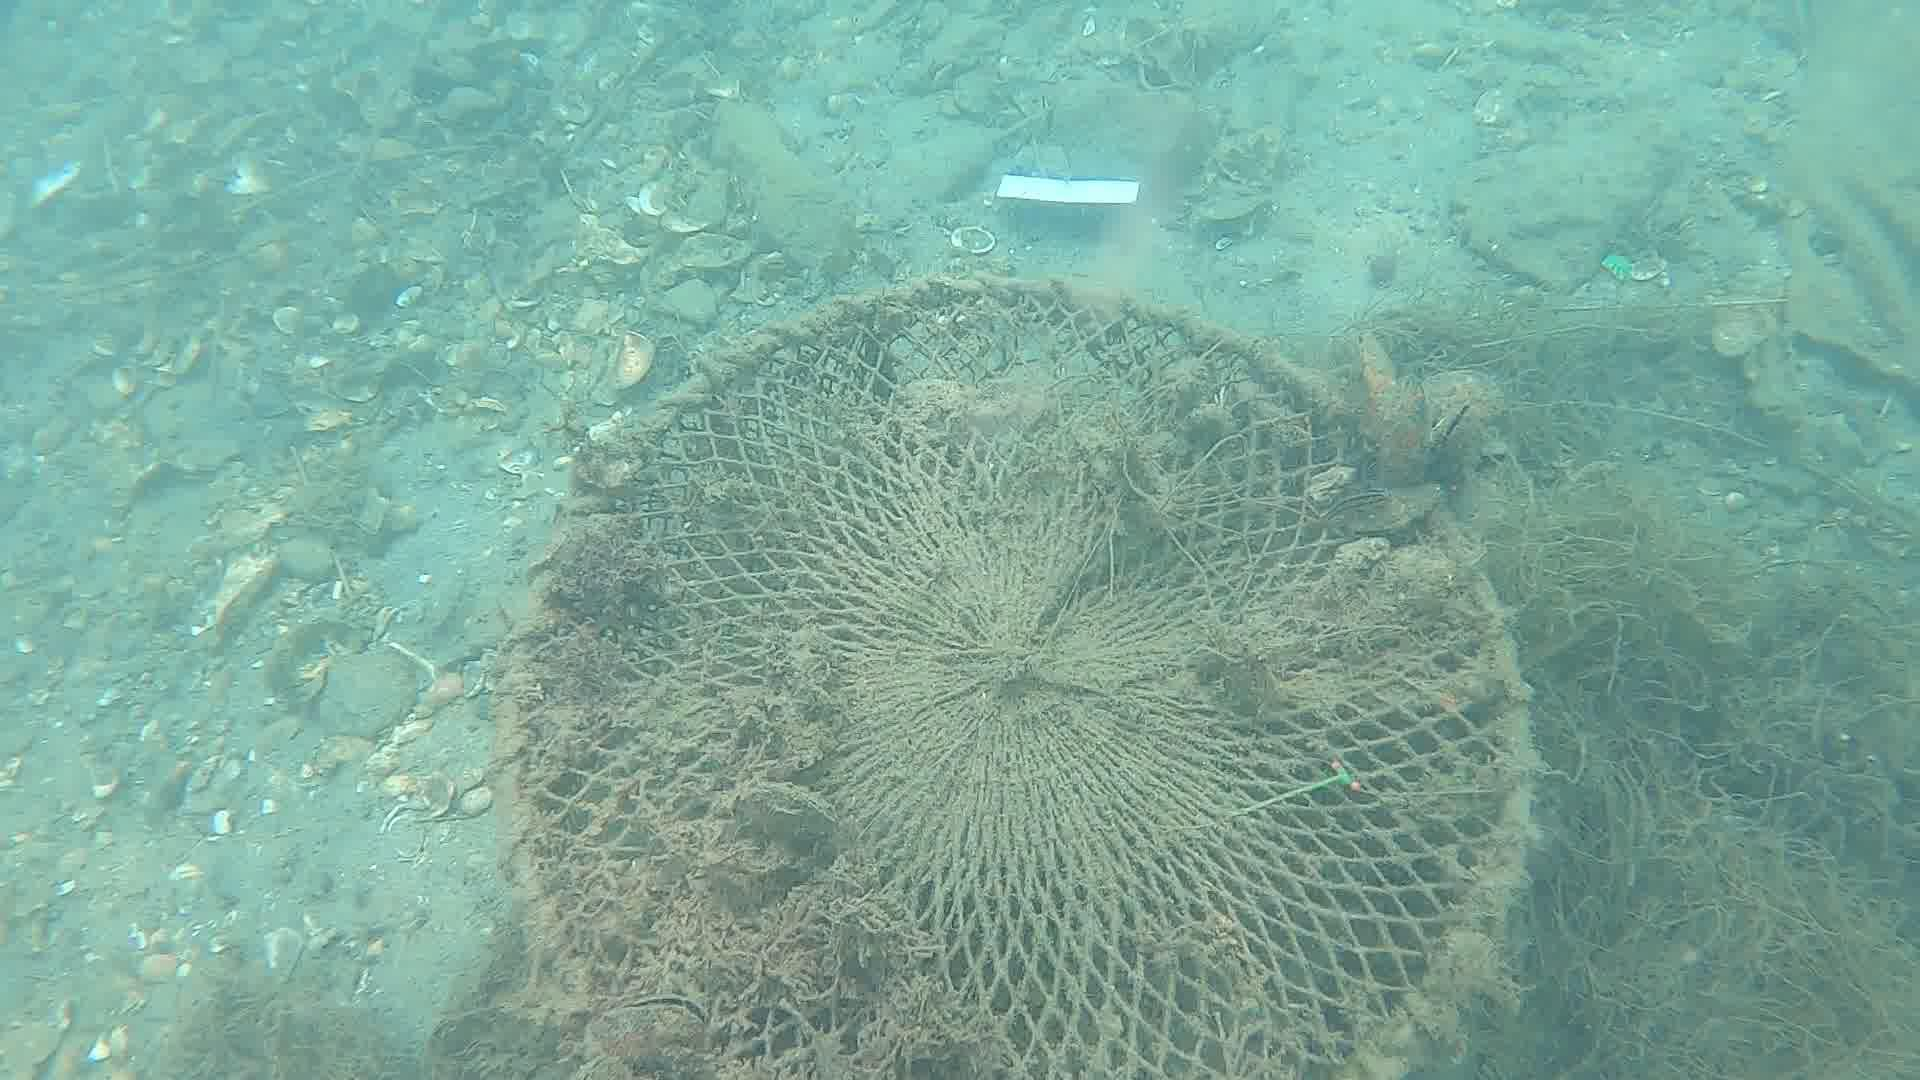circular fish trap: (495, 278, 1581, 1080)
